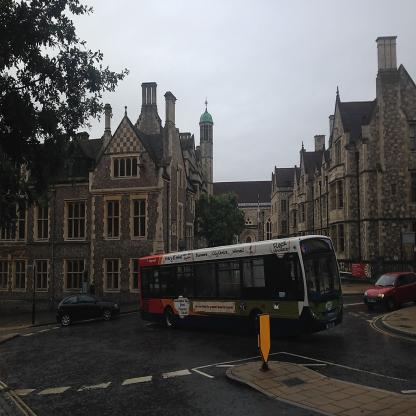Car: (59, 294, 121, 327), (365, 274, 416, 311)
